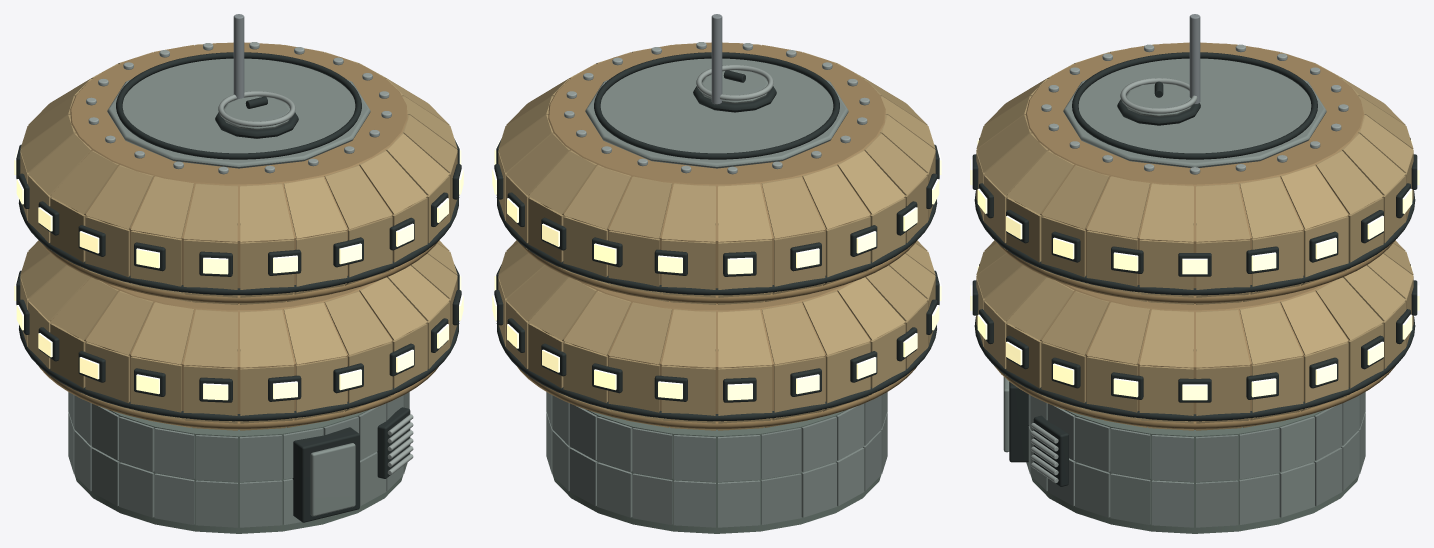
The picture shows the model from 3 angles, left to right: view 1: azimuth 30°, elevation 25°; view 2: azimuth 150°, elevation 25°; view 3: azimuth 270°, elevation 25°; orthographic projection.
Visible parts, largest first — view 1: Individual curved habitation plates.001, Individual curved habitation plates, Segmented habitation base, Roof maintenance deck, Stacked residential saucer.001, Foundation drum, Roof aerial mounting track, Stacked residential saucer, Dark expansion joint.001, Dark expansion joint, Airlock pressure door, Base personnel airlock (+7 smaller); view 2: Individual curved habitation plates.001, Individual curved habitation plates, Segmented habitation base, Roof maintenance deck, Stacked residential saucer.001, Foundation drum, Roof aerial mounting track, Stacked residential saucer, Dark expansion joint.001, Dark expansion joint, Lower structural sill, Lower structural sill.001 (+4 smaller); view 3: Individual curved habitation plates.001, Individual curved habitation plates, Segmented habitation base, Roof maintenance deck, Stacked residential saucer.001, Foundation drum, Roof aerial mounting track, Dark expansion joint.001, Stacked residential saucer, Dark expansion joint, Lower structural sill.001, Lower structural sill (+6 smaller).
Boxes of the visible parts, x1,y1,x2,y2 form: Individual curved habitation plates.001: (20, 42, 457, 304); Individual curved habitation plates: (20, 240, 457, 430); Segmented habitation base: (68, 392, 409, 527); Roof maintenance deck: (107, 58, 370, 168); Stacked residential saucer.001: (50, 42, 427, 303); Foundation drum: (74, 409, 403, 533); Roof aerial mounting track: (116, 52, 361, 159); Stacked residential saucer: (50, 277, 427, 429); Dark expansion joint.001: (18, 197, 459, 295); Dark expansion joint: (19, 323, 459, 421); Airlock pressure door: (310, 443, 355, 516); Base personnel airlock: (292, 427, 359, 522); Individual curved habitation plates.001: (498, 42, 935, 304); Individual curved habitation plates: (498, 240, 935, 430); Segmented habitation base: (546, 392, 887, 527); Roof maintenance deck: (585, 58, 848, 168); Stacked residential saucer.001: (528, 42, 905, 303); Foundation drum: (552, 409, 881, 533); Roof aerial mounting track: (594, 52, 839, 159); Stacked residential saucer: (528, 277, 905, 429); Dark expansion joint.001: (496, 197, 937, 295); Dark expansion joint: (496, 323, 936, 421); Lower structural sill: (517, 366, 916, 428); Lower structural sill.001: (516, 240, 916, 302); Individual curved habitation plates.001: (976, 42, 1413, 304); Individual curved habitation plates: (976, 240, 1413, 430); Segmented habitation base: (1026, 392, 1365, 527); Roof maintenance deck: (1063, 58, 1326, 167); Stacked residential saucer.001: (1006, 42, 1383, 303); Foundation drum: (1030, 410, 1359, 533); Roof aerial mounting track: (1072, 52, 1317, 159); Dark expansion joint.001: (974, 190, 1415, 295); Stacked residential saucer: (996, 281, 1393, 429); Dark expansion joint: (974, 316, 1415, 421); Lower structural sill.001: (994, 240, 1395, 303); Lower structural sill: (994, 366, 1395, 428).
Size of the model in its own units: 1.88 by 2.06 by 1.88.
